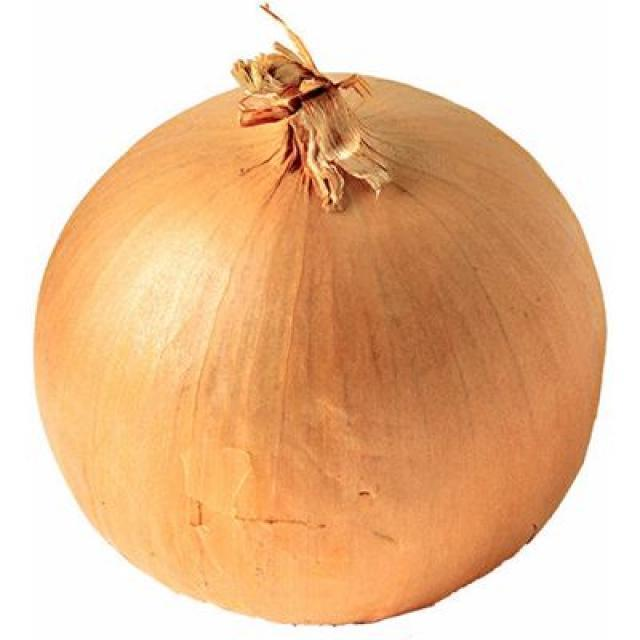Onion: (32, 2, 607, 624)
